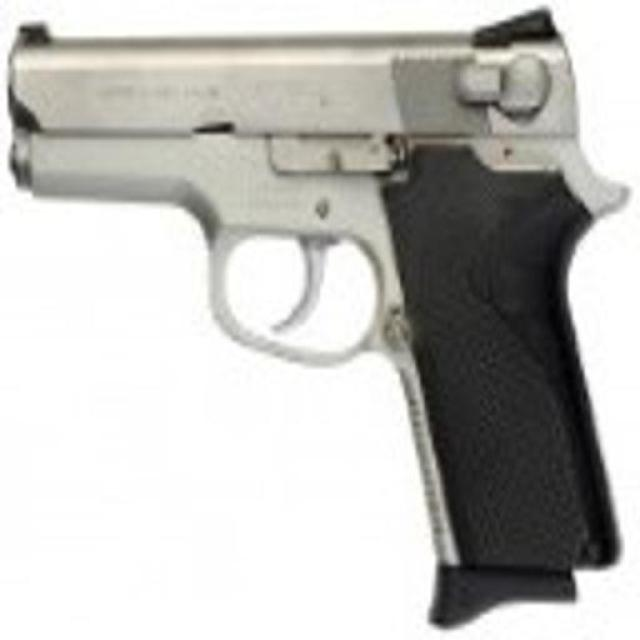pistol: (7, 15, 635, 624)
